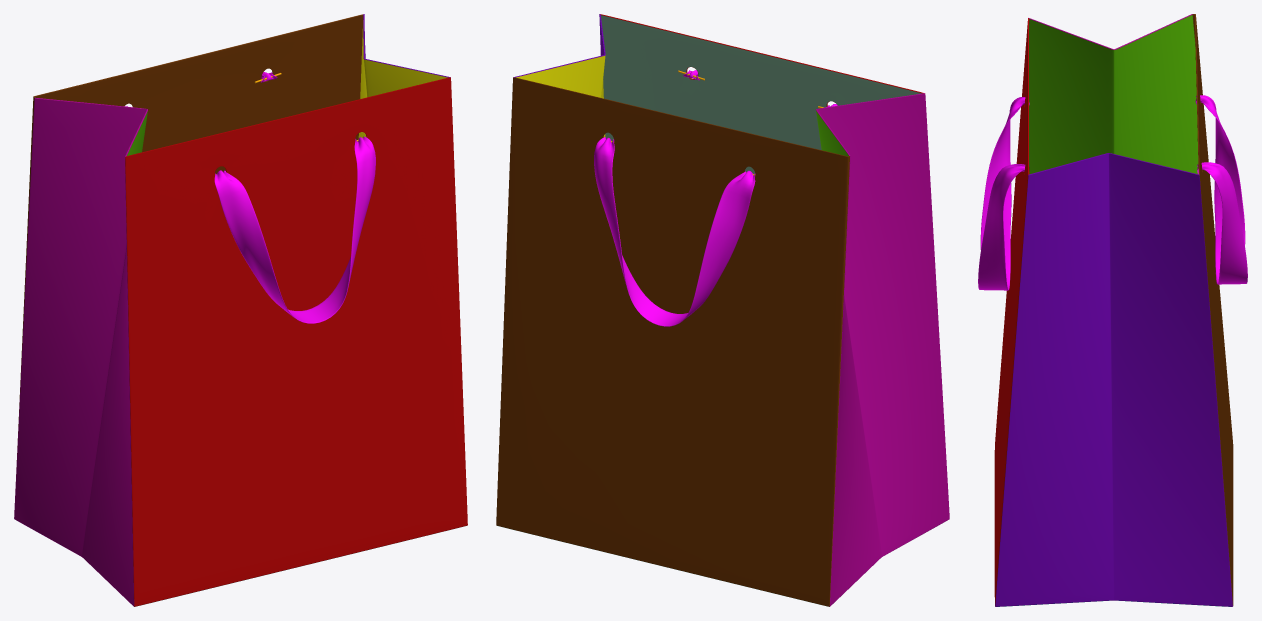
Rendered from gift_paper_bag.glb.
3 views of the same model, side by side, from view 1: azimuth 30°, elevation 25°; view 2: azimuth 150°, elevation 25°; view 3: azimuth 270°, elevation 25° (orthographic).
Parts seen in each view (by area): view 1: gift_paper_bag; view 2: gift_paper_bag; view 3: gift_paper_bag.
Boxes of the visible parts, x1,y1,x2,y2 form: gift_paper_bag: (14, 14, 467, 606); gift_paper_bag: (496, 14, 949, 606); gift_paper_bag: (978, 14, 1247, 606).
Bounding box in the file's own units: 0.1917 × 0.2396 × 0.1355.
